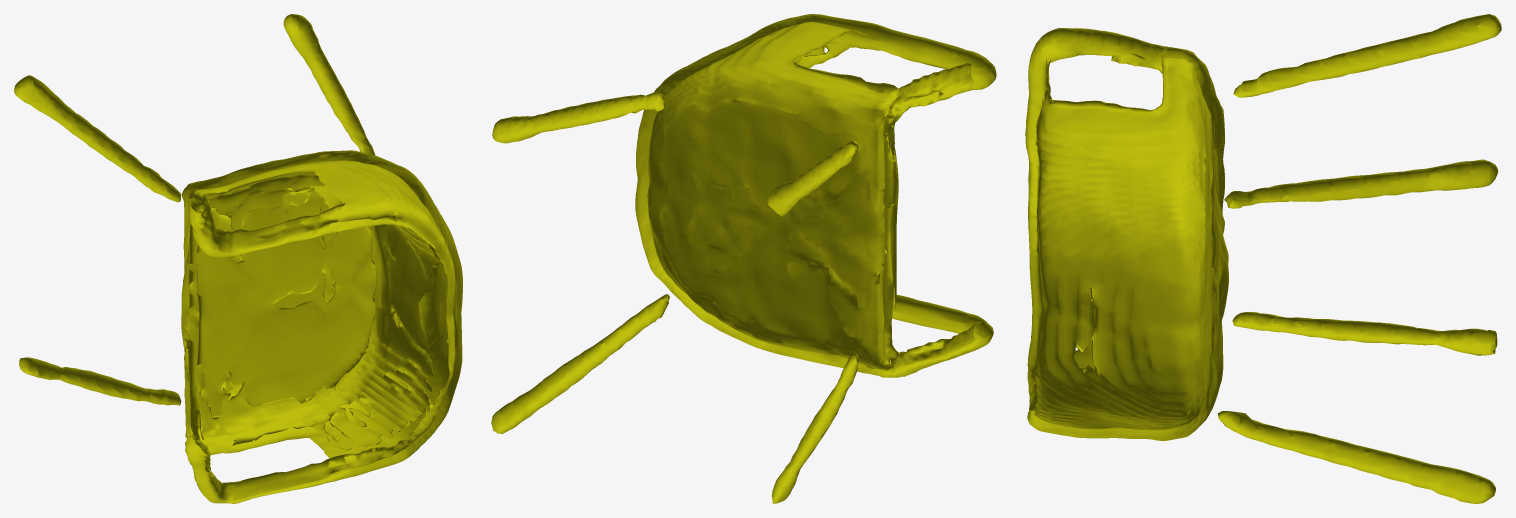
3 views of the same model, side by side, from view 1: azimuth 30°, elevation 25°; view 2: azimuth 150°, elevation 25°; view 3: azimuth 270°, elevation 25° (orthographic). The views are drawn at different scales.
Visible parts, largest first — view 1: world; view 2: world; view 3: world.
Boxes of the visible parts, x1,y1,x2,y2 form: world: [14, 14, 462, 503]; world: [491, 14, 996, 503]; world: [1025, 14, 1501, 503].
Bounding box in the file's own units: 65.8 × 64.56 × 81.92.
